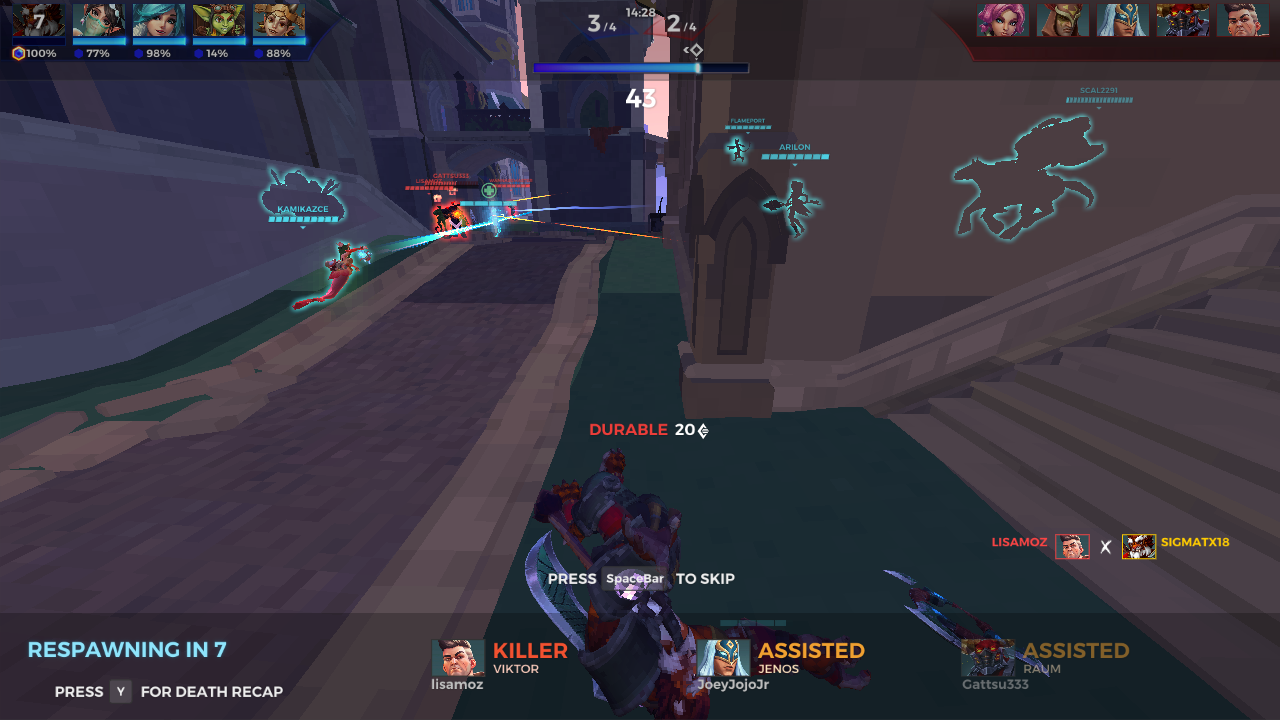model: (436, 199, 470, 241), (429, 197, 447, 236), (503, 203, 516, 219)
